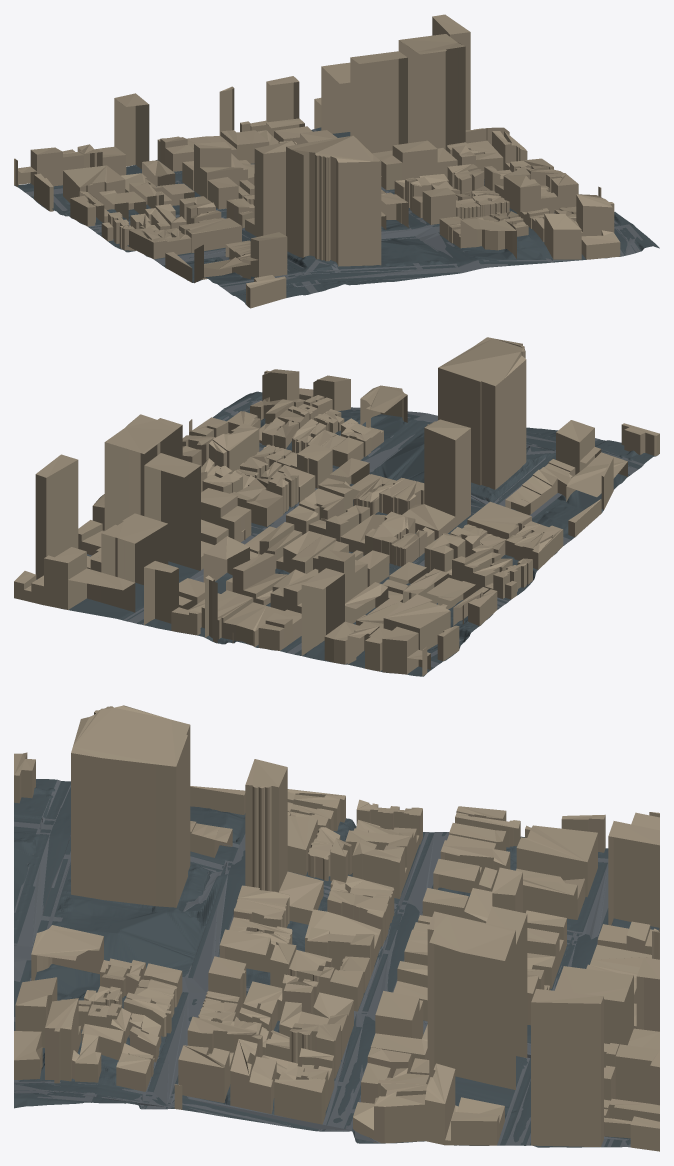
Rendered from epsg26910-1437-10892.lod0.glb.
3 views of the same model, one above another, from view 1: azimuth 30°, elevation 25°; view 2: azimuth 150°, elevation 25°; view 3: azimuth 270°, elevation 25° (orthographic). The views are drawn at different scales.
Parts seen in each view (by area): view 1: epsg26910-1437-10892-lod0; view 2: epsg26910-1437-10892-lod0; view 3: epsg26910-1437-10892-lod0.
Part boxes in pixels (bbox=[...]): epsg26910-1437-10892-lod0: bbox=[14, 14, 659, 308]; epsg26910-1437-10892-lod0: bbox=[14, 337, 659, 676]; epsg26910-1437-10892-lod0: bbox=[14, 705, 659, 1151].
Bounding box in the file's own units: 384 × 157 × 384.
